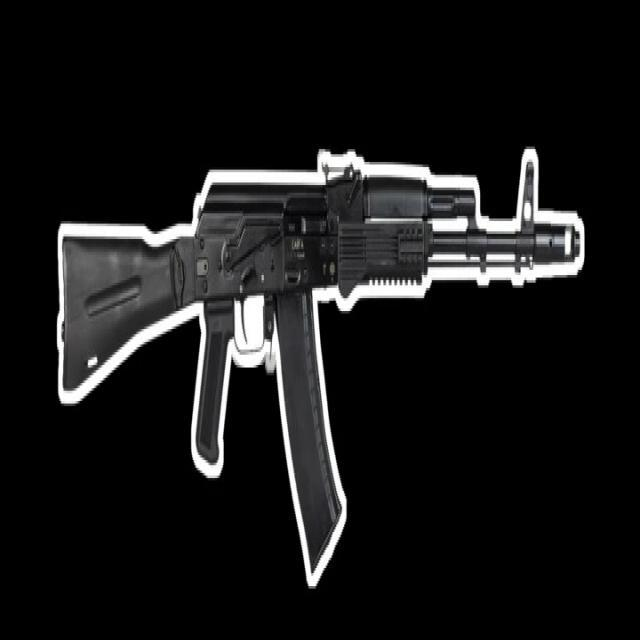weapon: (61, 152, 584, 581)
